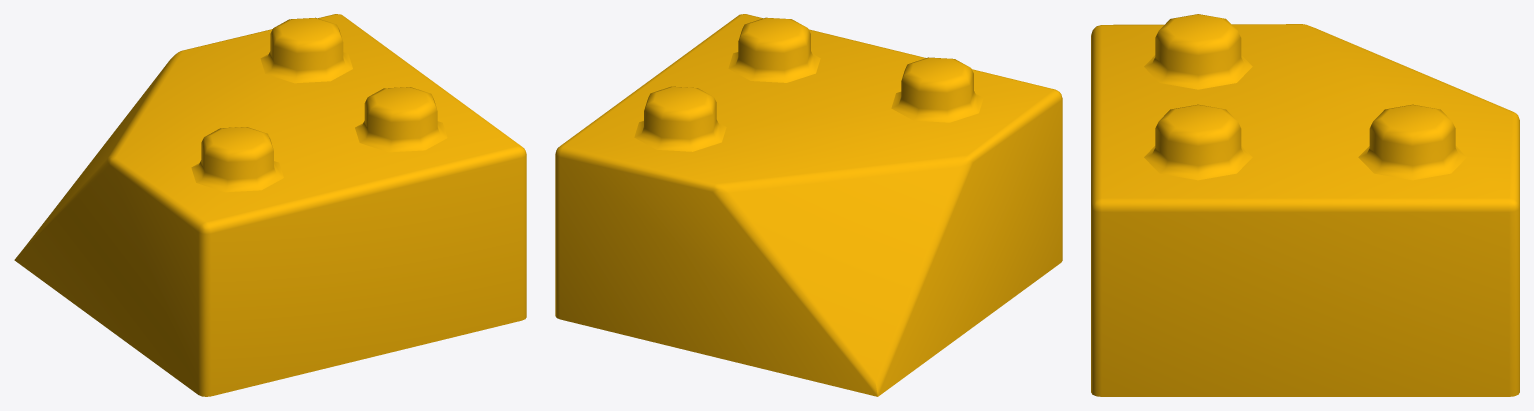
File: Bevel_One_Vertex_Half.fbx
3 views of the same model, side by side, from view 1: azimuth 30°, elevation 25°; view 2: azimuth 150°, elevation 25°; view 3: azimuth 270°, elevation 25° (orthographic). The views are drawn at different scales.
Parts seen in each view (by area): view 1: Bevel_One_Vertex_Half, Knobs.020; view 2: Bevel_One_Vertex_Half, Knobs.020; view 3: Bevel_One_Vertex_Half, Knobs.020.
Boxes of the visible parts, box(x1,y1,x2,y2) form: Bevel_One_Vertex_Half: box(14, 14, 526, 396); Knobs.020: box(191, 17, 447, 192); Bevel_One_Vertex_Half: box(555, 14, 1062, 396); Knobs.020: box(634, 17, 983, 151); Bevel_One_Vertex_Half: box(1091, 24, 1519, 396); Knobs.020: box(1144, 14, 1466, 180).
Size of the model in its own units: 1 by 0.6 by 1.
